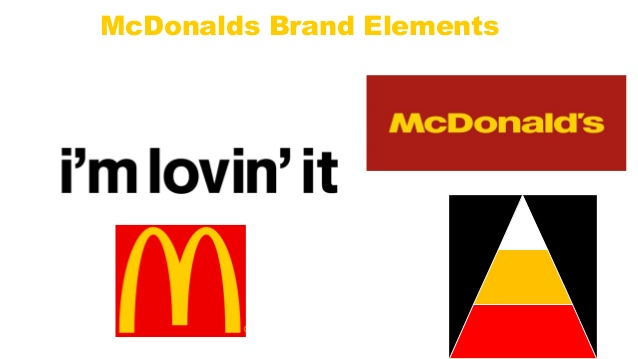mcdonalds: (115, 223, 240, 331)
